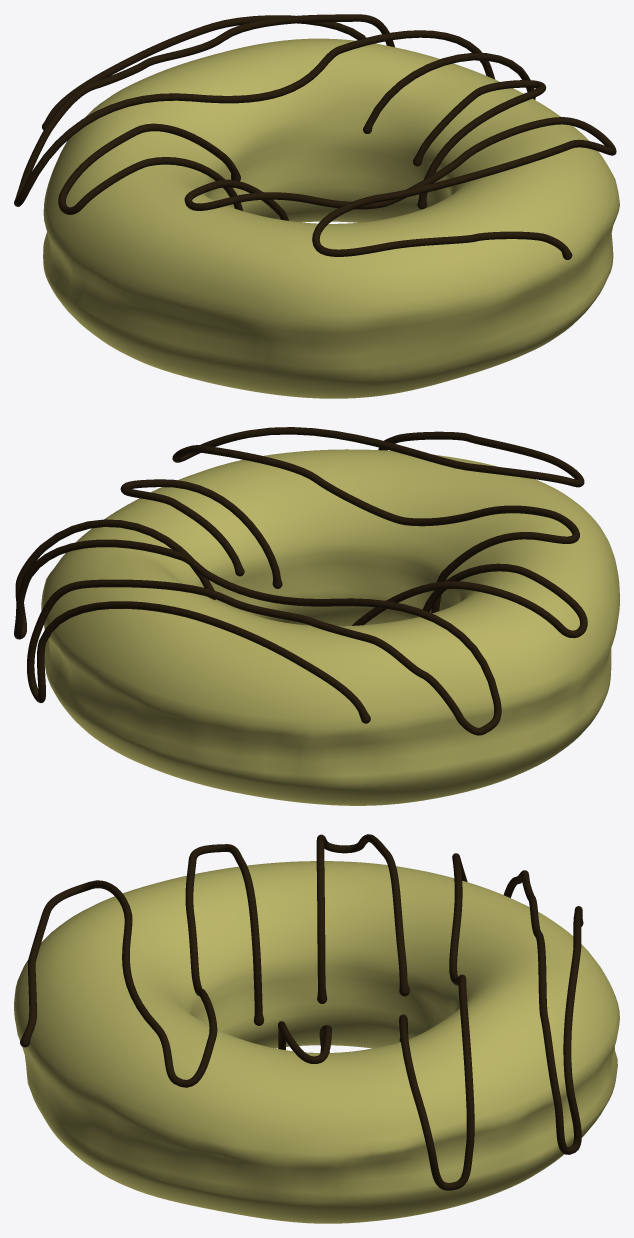
The model's file is donut1.fbx.
The picture shows the model from 3 angles, top to bottom: view 1: azimuth 30°, elevation 25°; view 2: azimuth 150°, elevation 25°; view 3: azimuth 270°, elevation 25°; orthographic projection. The views are drawn at different scales.
Visible parts, largest first — view 1: Donut_3; view 2: Donut_3; view 3: Donut_3.
Part boxes in pixels (left/top/right/bottom): Donut_3: left=14, top=14, right=619, bottom=398; Donut_3: left=14, top=427, right=619, bottom=805; Donut_3: left=14, top=834, right=619, bottom=1223.
Size of the model in its own units: 10.91 by 3.92 by 10.77.
